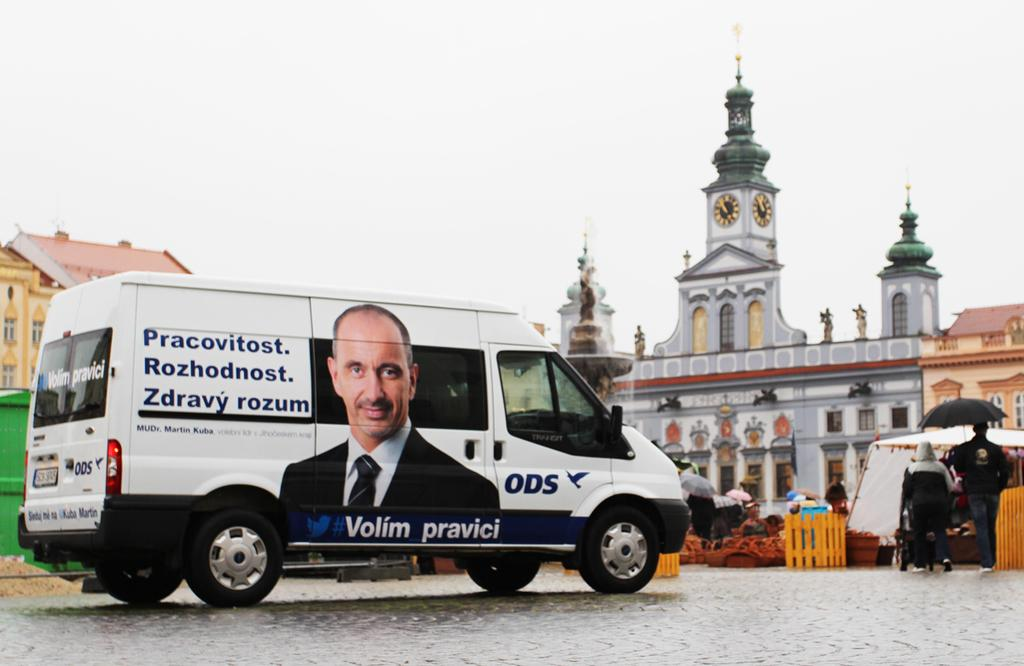vehicle: (16, 270, 690, 607)
